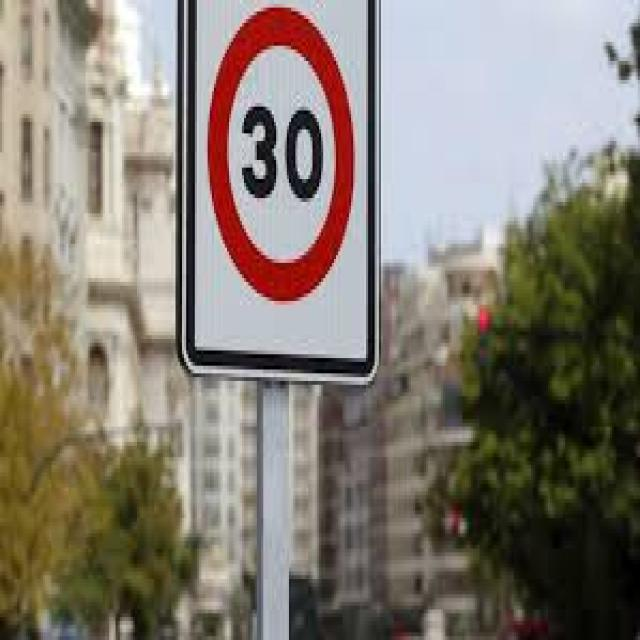Speed limit 30: (205, 10, 359, 308)
